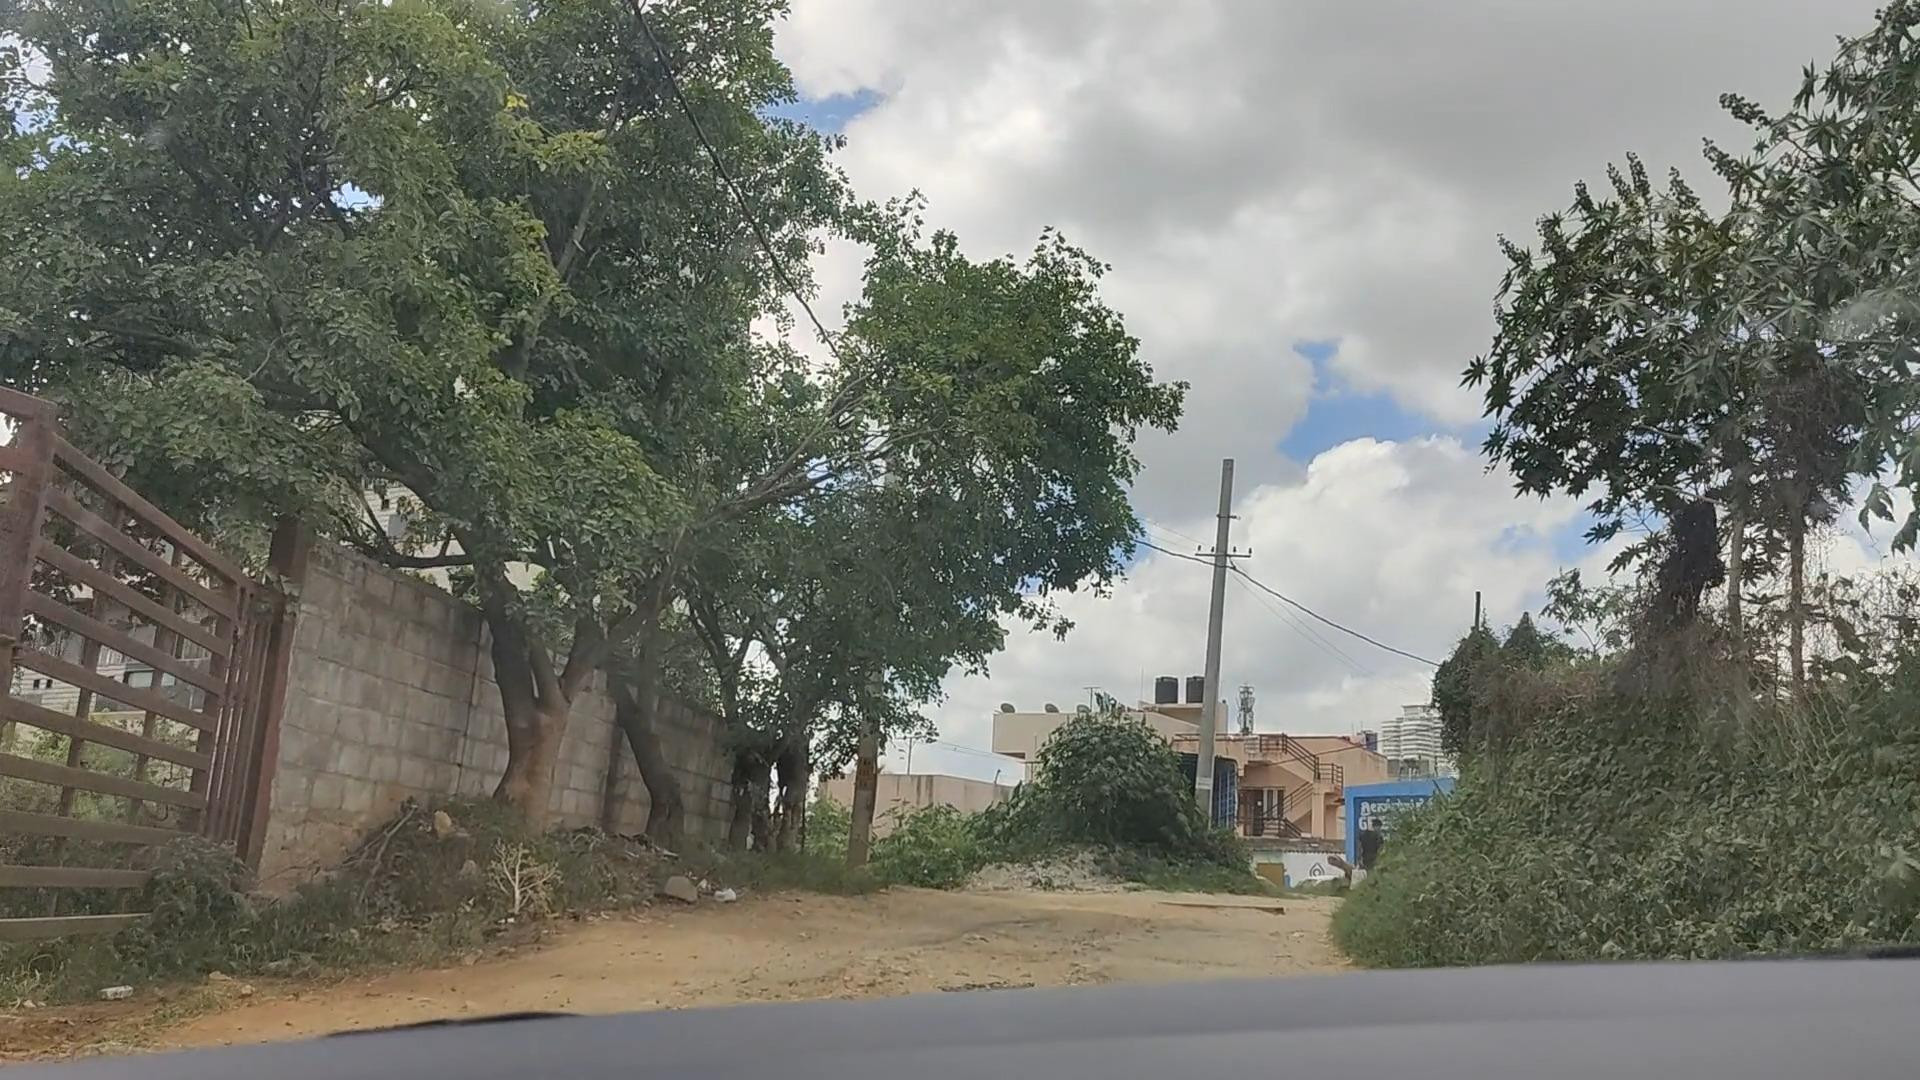RoadDamages: (779, 876, 1203, 994)
